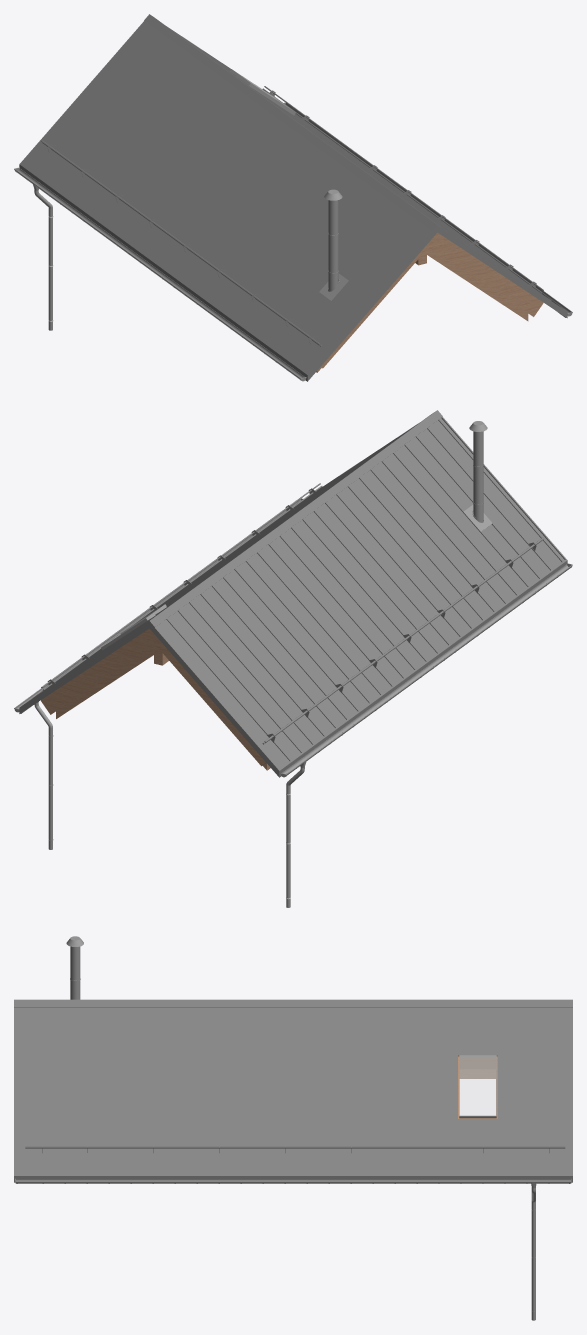
The model's file is Light_Roof.glb.
3 renders of one model, top to bottom at view 1: azimuth 30°, elevation 25°; view 2: azimuth 150°, elevation 25°; view 3: azimuth 270°, elevation 25°, orthographic. The views are drawn at different scales.
Parts seen in each view (by area): view 1: object_6.002, object_1.002, object_9.002, object_152.001, object_19.002, object_16.002, object_150.001; view 2: object_6.002, object_1.002, object_9.002, object_150.001, object_152.001, object_19.002, object_16.002; view 3: object_6.002, object_16.002, object_28.002, object_152.001, object_32.002, object_150.001.
Boxes of the visible parts, box(x1,y1,x2,y2) form: object_6.002: box(19, 14, 567, 381); object_1.002: box(321, 232, 543, 368); object_9.002: box(14, 167, 306, 381); object_152.001: box(319, 189, 348, 300); object_19.002: box(316, 248, 528, 372); object_16.002: box(284, 102, 572, 316); object_150.001: box(33, 184, 52, 330); object_6.002: box(19, 410, 567, 777); object_1.002: box(41, 628, 265, 766); object_9.002: box(280, 563, 572, 777); object_150.001: box(34, 701, 306, 907); object_152.001: box(463, 421, 492, 531); object_19.002: box(56, 646, 270, 770); object_16.002: box(14, 498, 302, 712); object_6.002: box(14, 999, 572, 1182); object_16.002: box(15, 1178, 571, 1183); object_28.002: box(459, 1056, 495, 1115); object_152.001: box(66, 936, 83, 999); object_32.002: box(458, 1056, 497, 1118); object_150.001: box(531, 1182, 536, 1320).
Size of the model in its own units: 2.54 by 2.66 by 4.64.
Materials: 7 (1 with a texture image).
